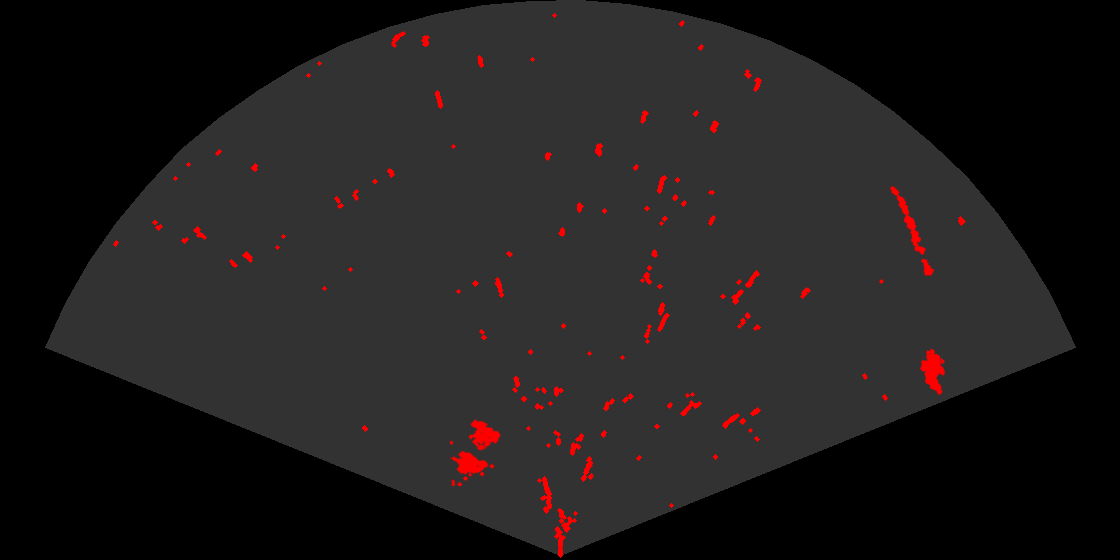AUV: (919, 347, 947, 396)
cage: (450, 418, 502, 486)
chain: (889, 185, 936, 279)
